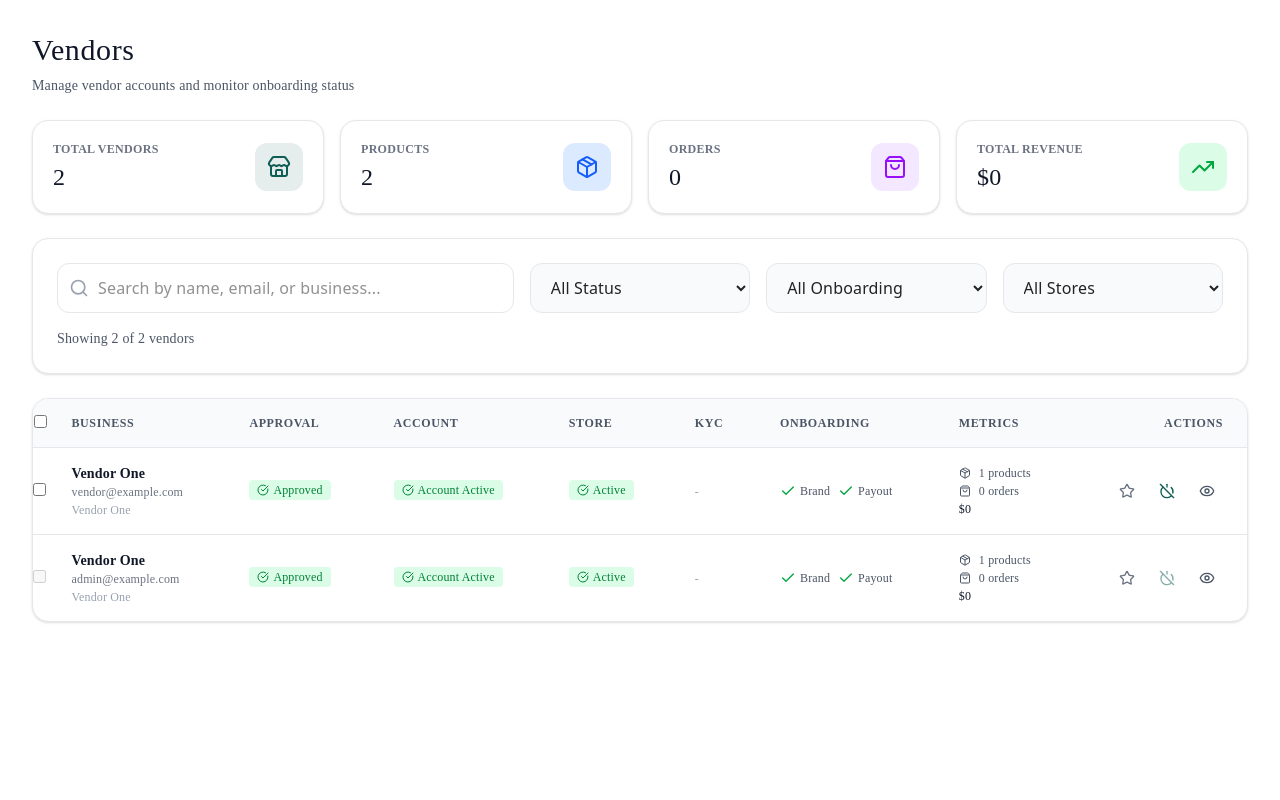
keeps selection and shows API detail after a failed bulk update
Click the checkbox named "Select vendor@example.com".
click(40, 490)  # box 33,483 -> 46,496
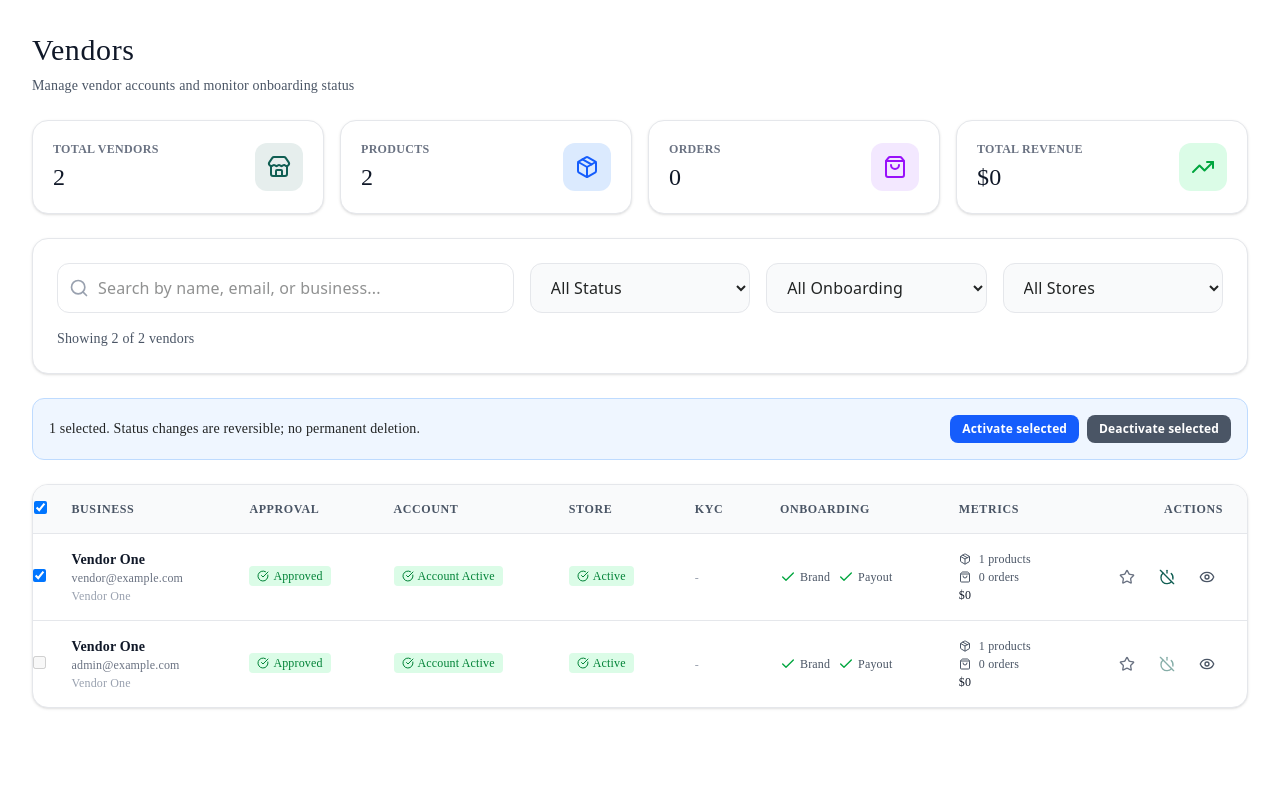
Click the button "Deactivate selected".
click(1159, 429)  # box 1087,415 -> 1231,443
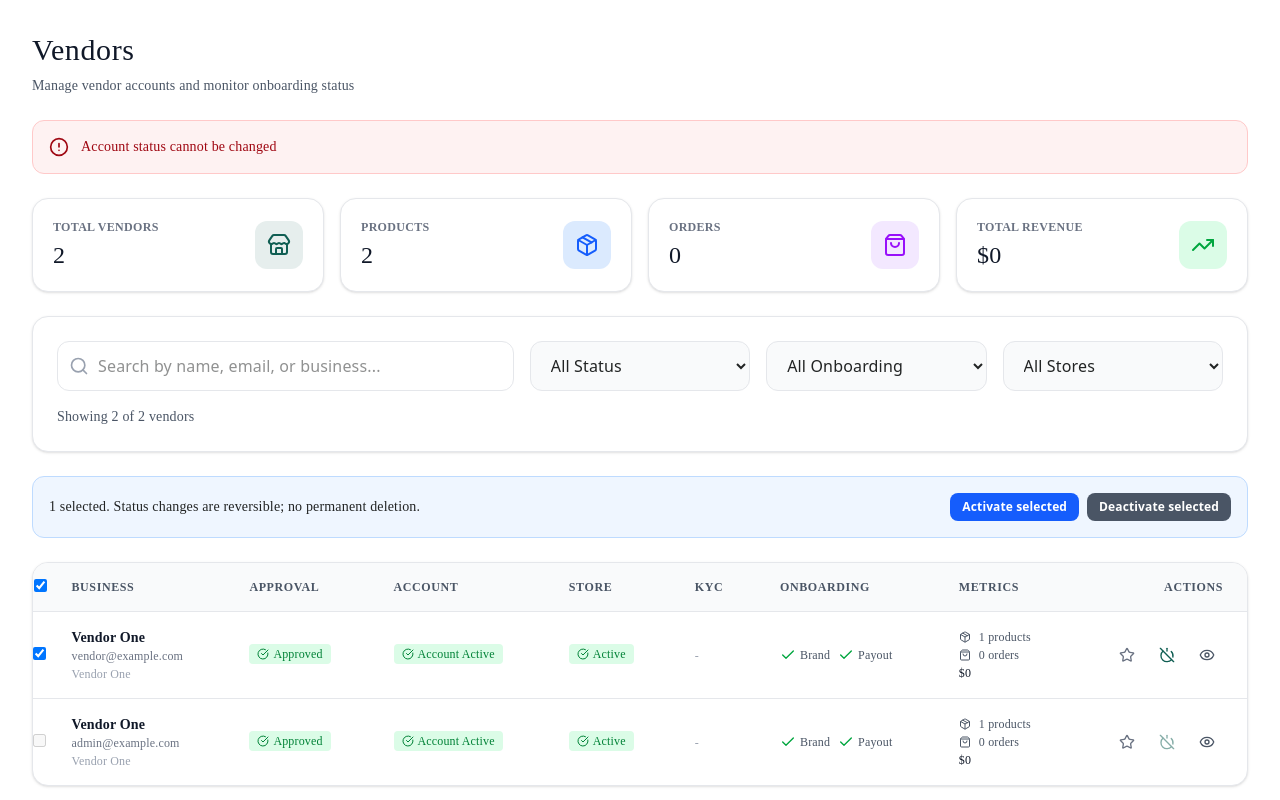
Expected: the checkbox named "Select vendor@example.com" is checked, 33,647 -> 46,660
Expected: the message reads "Account status cannot be changed", 81,139 -> 277,154
